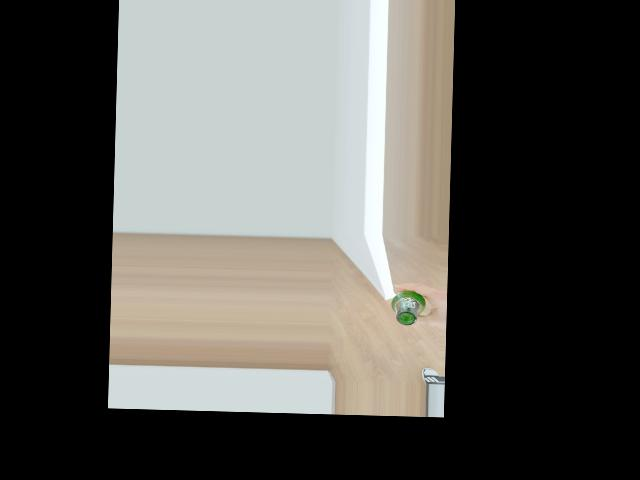beer: (390, 290, 427, 325)
